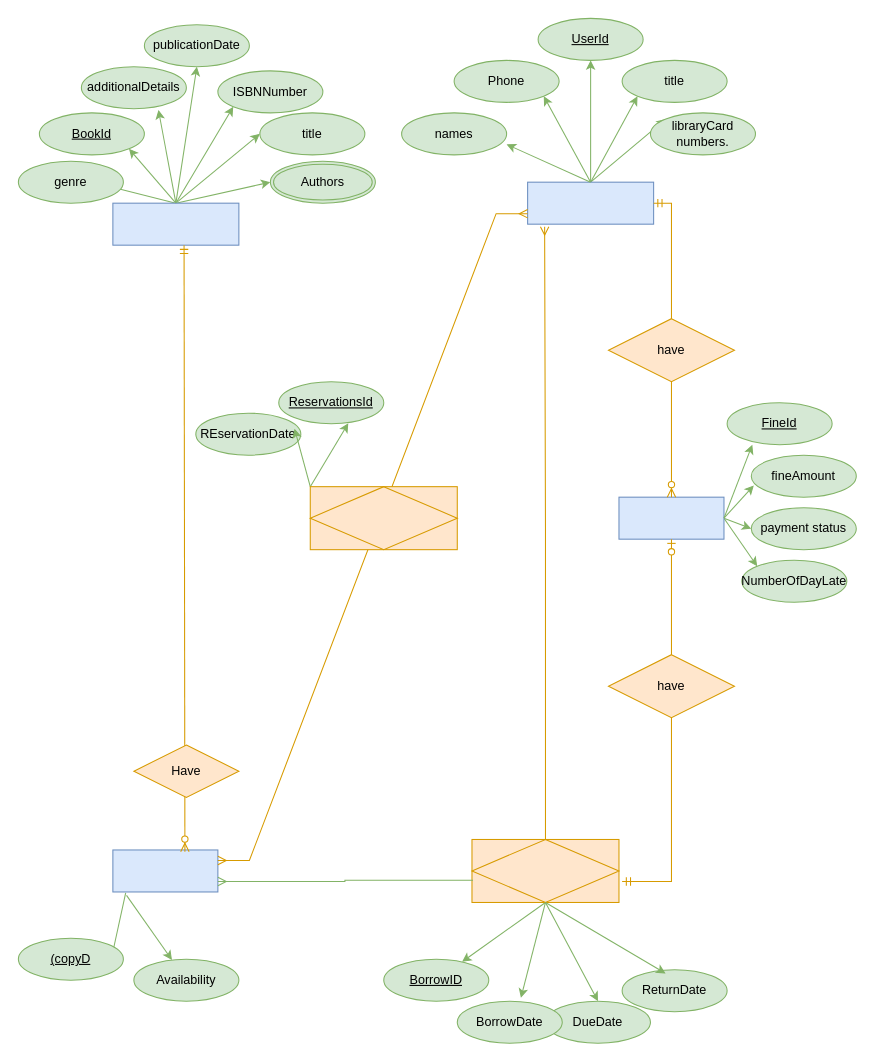
Some shapes in this 875 by 1062 pixel diagram are drawn without their labels. The shapes that lost their labels are listed below. From the top down, each one's box as (x1, y1, x2, y2) in pixels, then its label:
(527, 181, 654, 224): User
(112, 202, 239, 245): Book
(309, 486, 457, 550): Reservation
(618, 496, 724, 539): Fine
(112, 849, 218, 892): bookCopie
(471, 838, 619, 902): Borrowing
